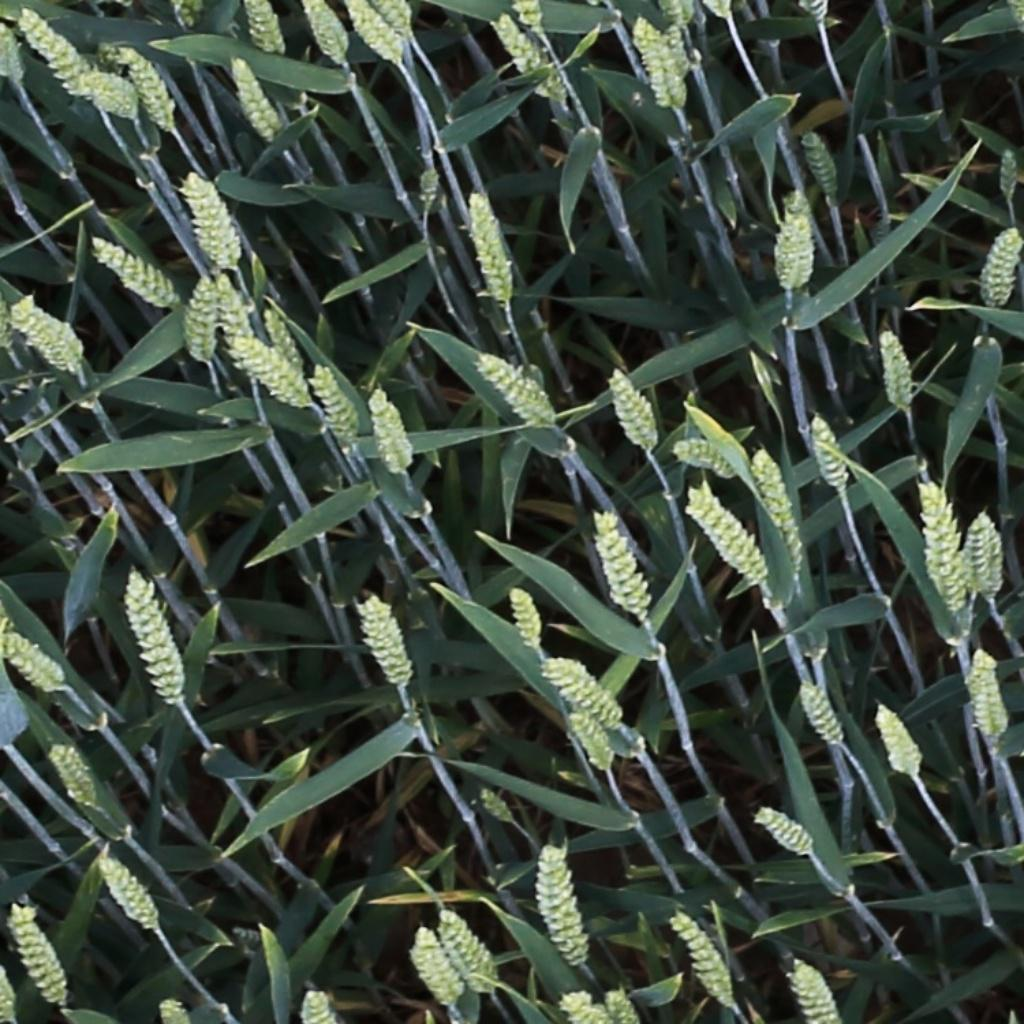0-0: (686, 483, 772, 587), (538, 645, 630, 736), (753, 445, 812, 578), (13, 4, 99, 94), (125, 573, 182, 708), (479, 19, 559, 112), (669, 905, 741, 1008), (592, 509, 655, 626), (6, 898, 69, 1010), (920, 476, 968, 619), (16, 298, 101, 378), (476, 350, 558, 427), (88, 236, 178, 305), (182, 167, 241, 270), (129, 47, 191, 143), (94, 853, 165, 936), (468, 185, 516, 307), (234, 334, 312, 409), (542, 843, 588, 968), (637, 23, 691, 121), (228, 51, 283, 146), (445, 913, 508, 995), (410, 920, 466, 1011), (607, 361, 662, 453), (309, 359, 363, 451), (217, 264, 262, 372), (361, 595, 410, 692), (873, 699, 927, 785), (367, 383, 412, 477), (797, 678, 851, 753), (345, 1, 406, 66), (46, 741, 99, 815), (566, 707, 618, 779), (811, 409, 854, 496), (0, 633, 64, 690), (802, 122, 847, 203), (970, 648, 1007, 745), (262, 301, 310, 375), (303, 0, 353, 70), (880, 323, 917, 416), (984, 221, 1022, 309), (793, 955, 842, 1022), (776, 189, 809, 285), (969, 506, 1000, 603), (506, 581, 546, 656), (757, 808, 817, 858), (64, 72, 134, 112), (363, 0, 415, 53), (244, 0, 288, 60), (786, 192, 813, 289), (189, 268, 215, 368), (667, 26, 699, 100), (675, 442, 738, 473), (476, 786, 518, 830), (374, 1, 417, 42), (603, 977, 640, 1024), (996, 137, 1021, 206), (559, 989, 611, 1022), (0, 15, 23, 86), (301, 980, 335, 1024), (417, 157, 442, 214), (514, 0, 550, 38), (0, 940, 16, 1021), (664, 0, 697, 35), (173, 0, 203, 38), (157, 991, 189, 1022), (707, 1, 741, 28), (0, 589, 12, 633)
